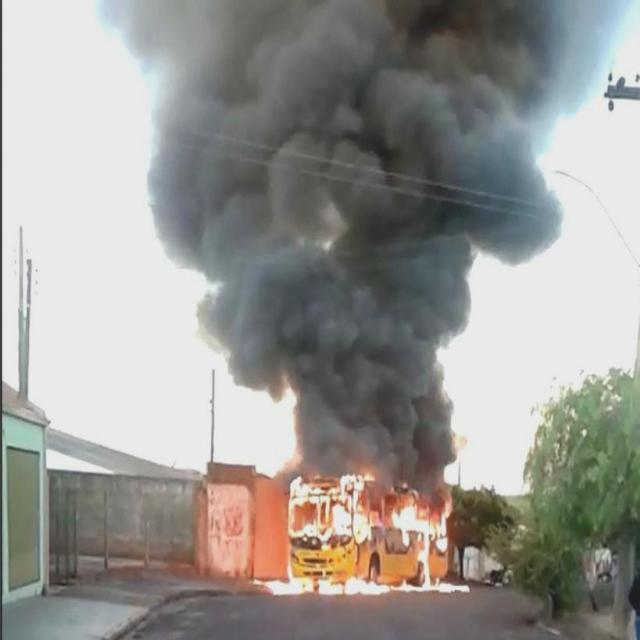Fire: (268, 470, 468, 598)
Smoke: (109, 0, 586, 471)
